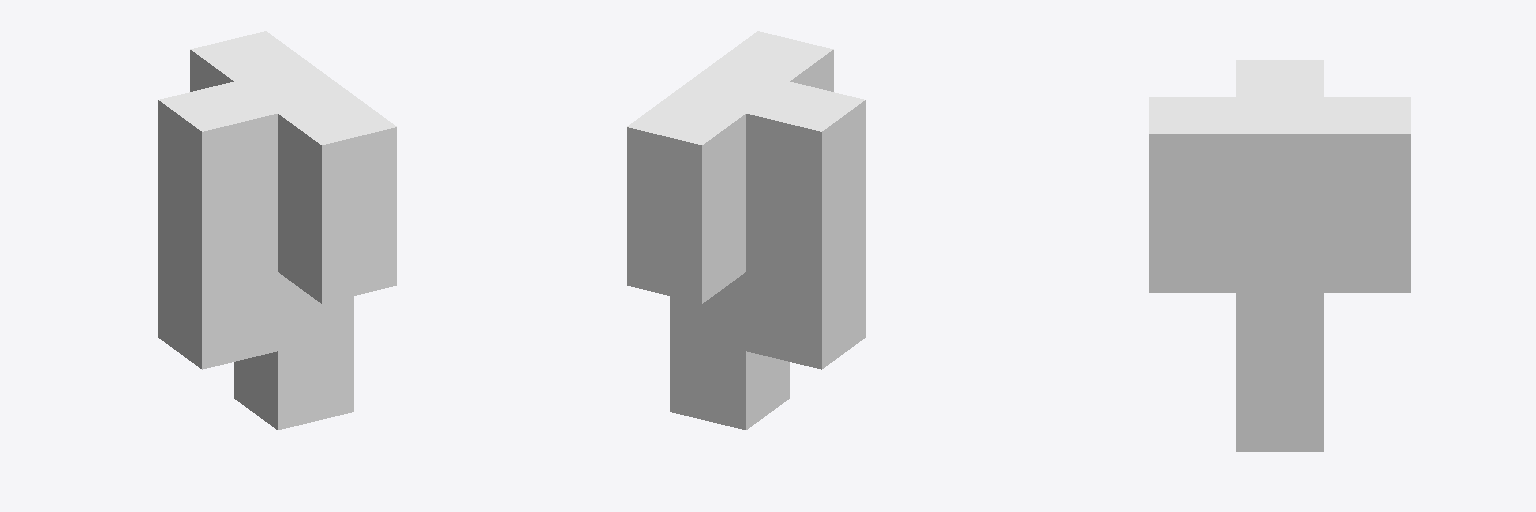
The model's file is bunker0_0.obj.
The picture shows the model from 3 angles: view 1: azimuth 30°, elevation 25°; view 2: azimuth 150°, elevation 25°; view 3: azimuth 270°, elevation 25°; orthographic projection.
Visible parts, largest first — view 1: bunker0_0; view 2: bunker0_0; view 3: bunker0_0.
Part boxes in pixels (x1,y1,x2,y2): bunker0_0: (158,31,396,429); bunker0_0: (627,31,865,429); bunker0_0: (1149,60,1410,451).
Size of the model in its own units: 2 by 4 by 3.